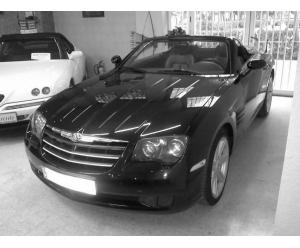car: (26, 30, 276, 211)
